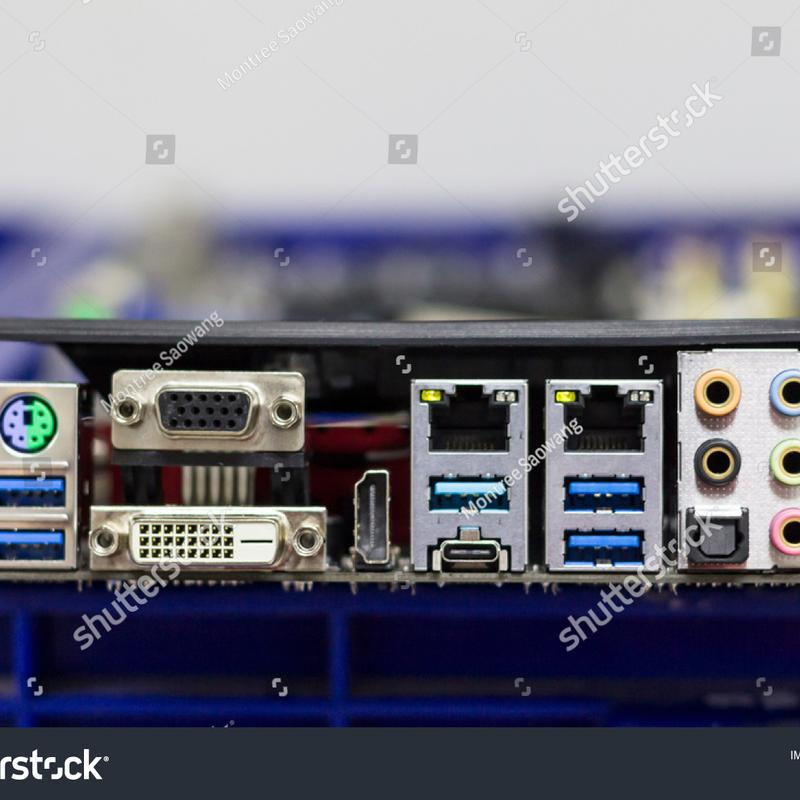AUDIO: (752, 364, 799, 424)
AUDIO_INPUT: (760, 429, 799, 494)
AUDIO_OUTPUT: (761, 502, 799, 577)
DVI: (82, 498, 336, 579)
ETHERNET: (549, 376, 661, 463), (413, 375, 525, 459)
HDMI: (340, 460, 407, 579)
PS2: (0, 388, 68, 454)
USB: (555, 467, 656, 520), (425, 461, 520, 515), (553, 522, 651, 568), (0, 524, 69, 573), (0, 467, 74, 508)
USBC: (426, 523, 516, 580)
VGA: (109, 367, 311, 448)
